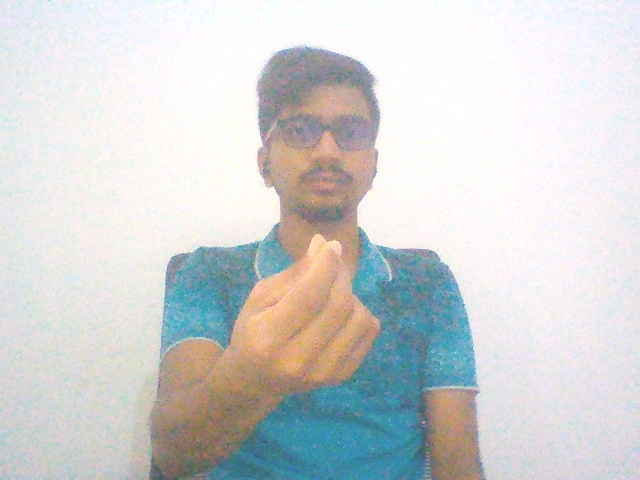dog: (206, 215, 414, 413)
